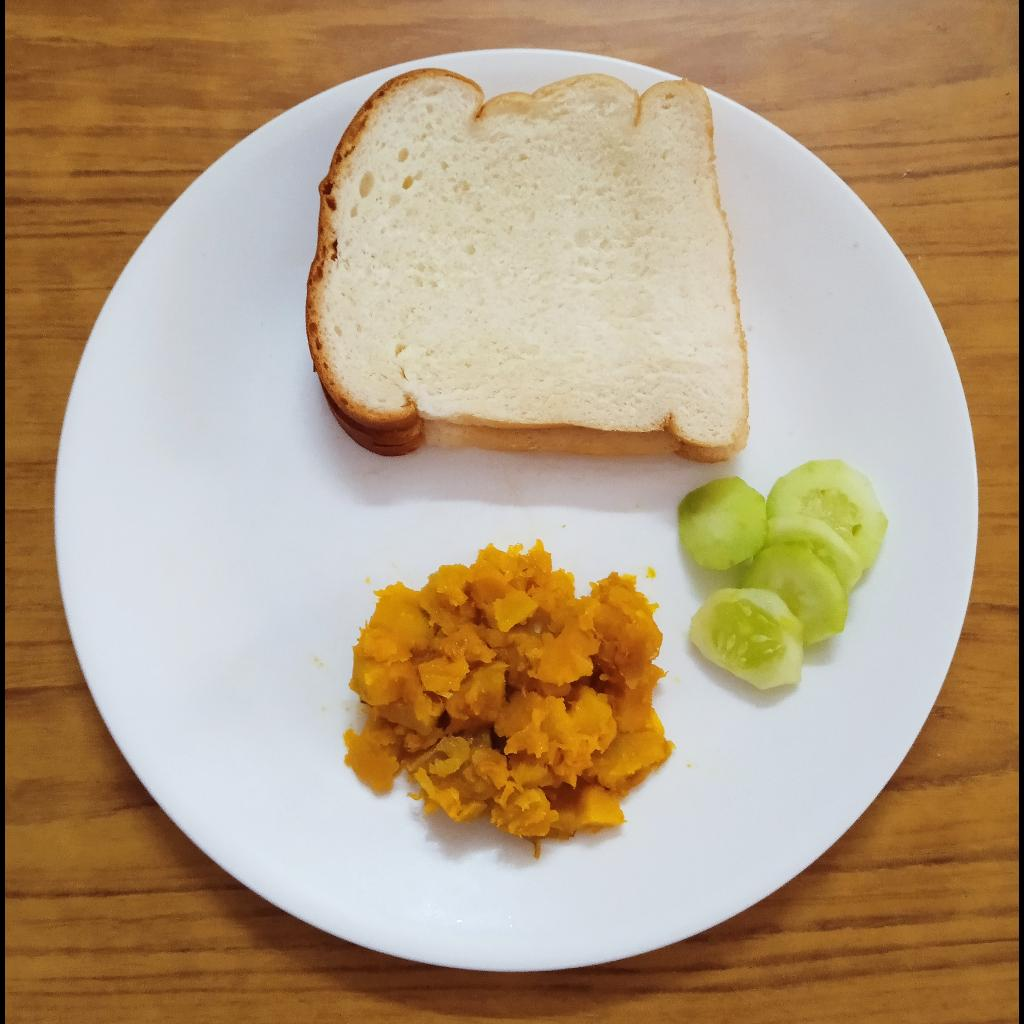bread: (306, 65, 750, 467)
cucumber: (677, 452, 882, 687)
kumra-vaji: (346, 540, 682, 850)
